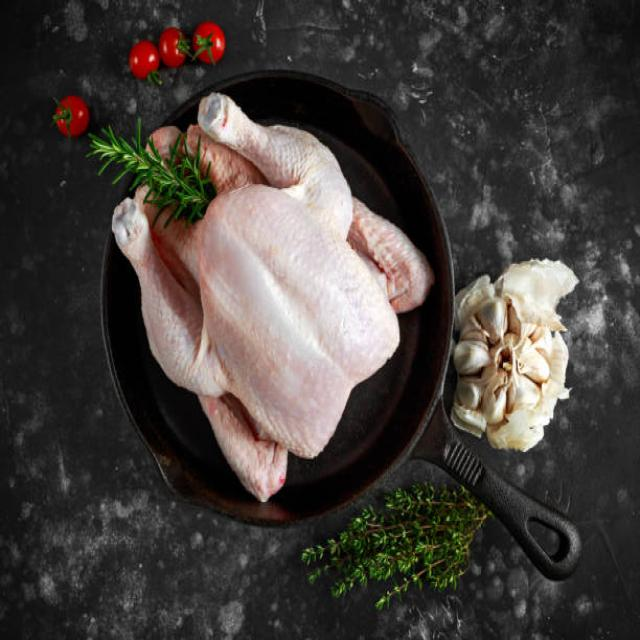Chicken: (105, 94, 440, 517)
